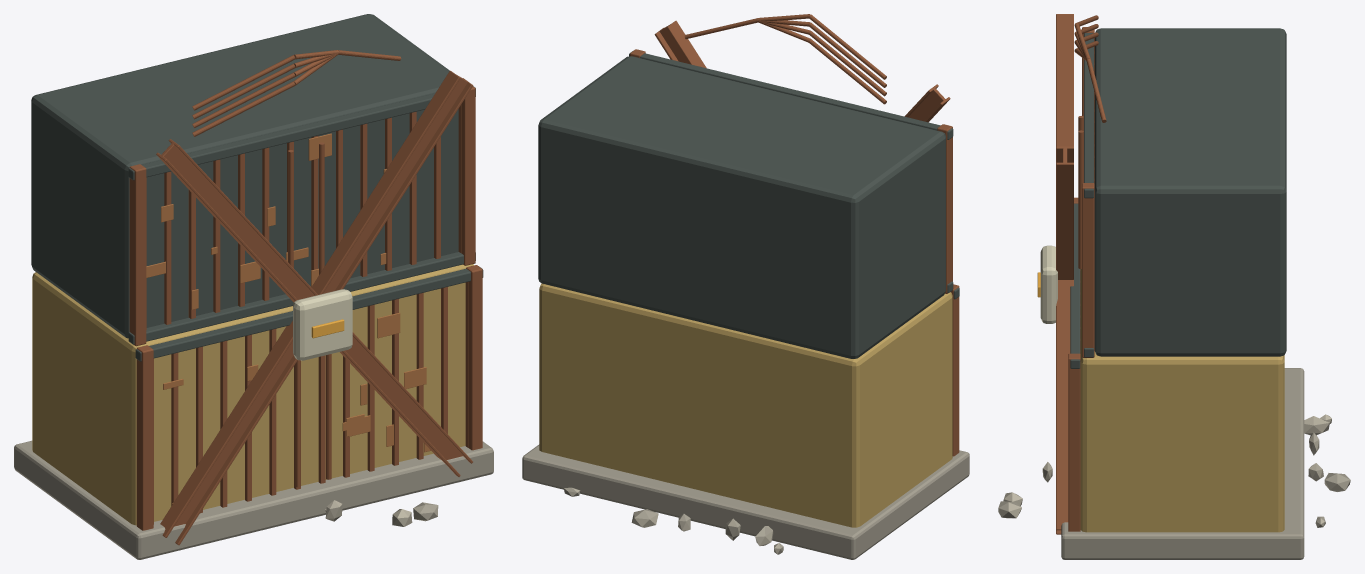
File: Wall_Final_Locked_Section.glb
3 views of the same model, side by side, from view 1: azimuth 30°, elevation 25°; view 2: azimuth 150°, elevation 25°; view 3: azimuth 270°, elevation 25° (orthographic). The views are drawn at different scales.
Parts seen in each view (by area): view 1: Structure; view 2: Structure; view 3: Structure.
Boxes of the visible parts, x1,y1,x2,y2 form: Structure: [14, 14, 493, 559]; Structure: [522, 14, 969, 559]; Structure: [998, 14, 1350, 559].
Bounding box in the file's own units: 5.1 × 6.37 × 4.49.
